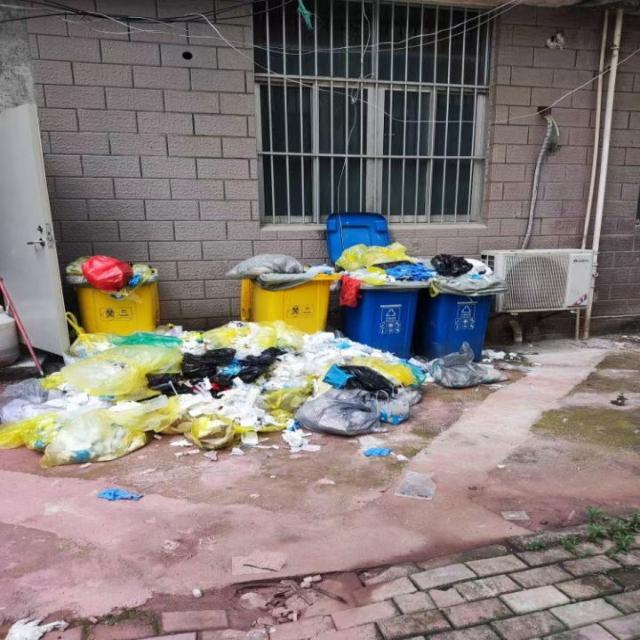garbage: (0, 320, 514, 500)
overflow: (331, 241, 431, 358), (415, 253, 504, 360), (225, 252, 340, 334), (66, 255, 159, 335)
